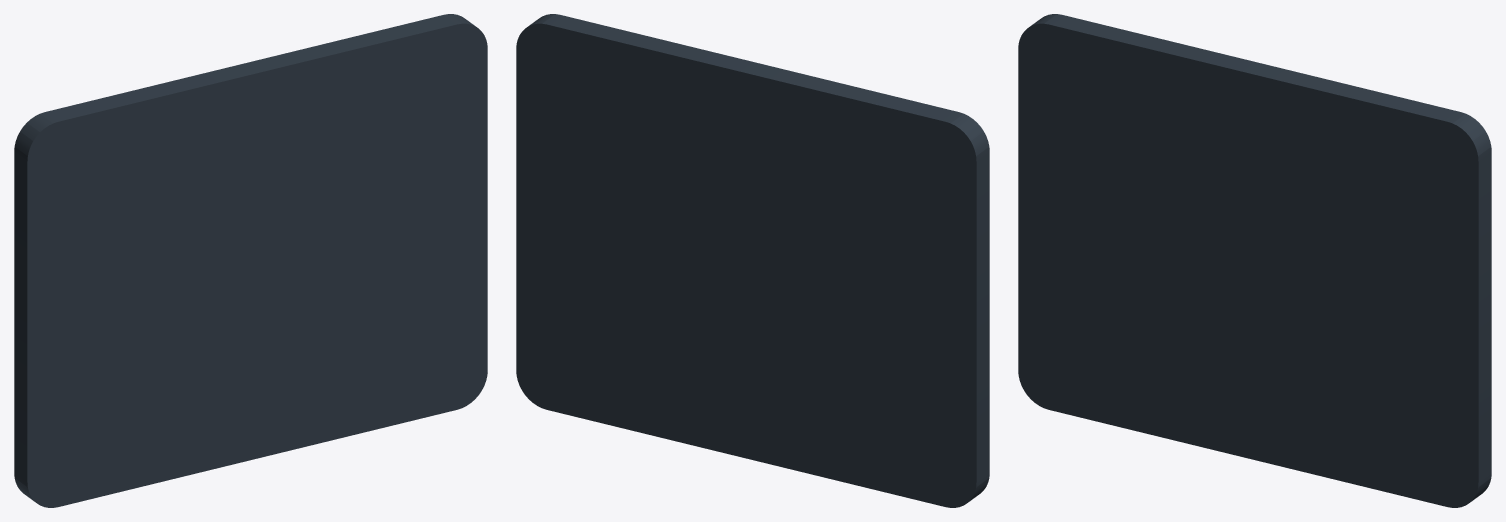
File: original-11.obj
3 views of the same model, side by side, from view 1: azimuth 30°, elevation 25°; view 2: azimuth 150°, elevation 25°; view 3: azimuth 330°, elevation 25° (orthographic).
Parts seen in each view (by area): view 1: Group_19/ID80#ID80; view 2: Group_19/ID80#ID80; view 3: Group_19/ID80#ID80.
Boxes of the visible parts, left/top/right/bottom form: Group_19/ID80#ID80: left=14, top=14, right=487, bottom=507; Group_19/ID80#ID80: left=516, top=14, right=989, bottom=507; Group_19/ID80#ID80: left=1018, top=14, right=1491, bottom=507.
Bounding box in the file's own units: 1.57 × 1.26 × 0.0786.
